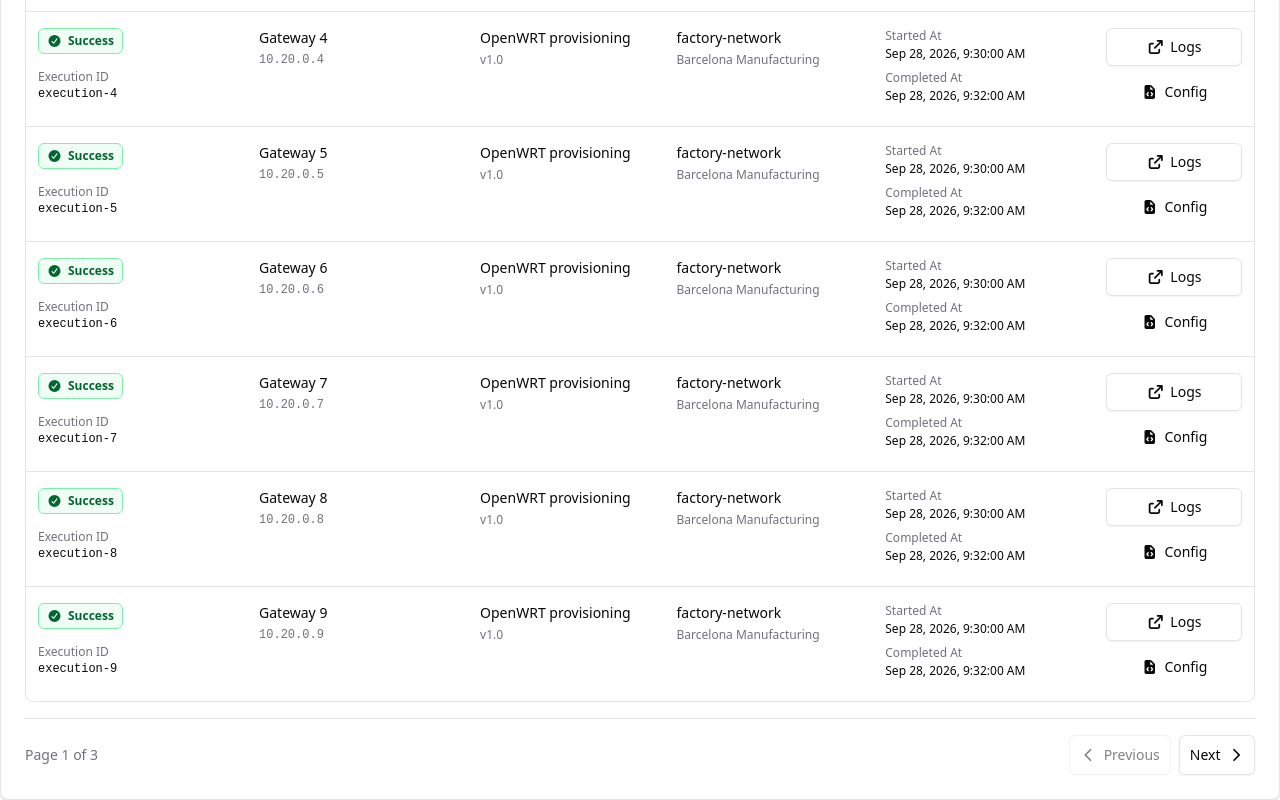
Test: DeploymentJobsList result navigation › returns to the first page when searching and when clearing filters
This screenshot has width=1280, height=800.
(page scrolled)
Click the button "Next" at [1217, 754], box [1179,734,1255,774]
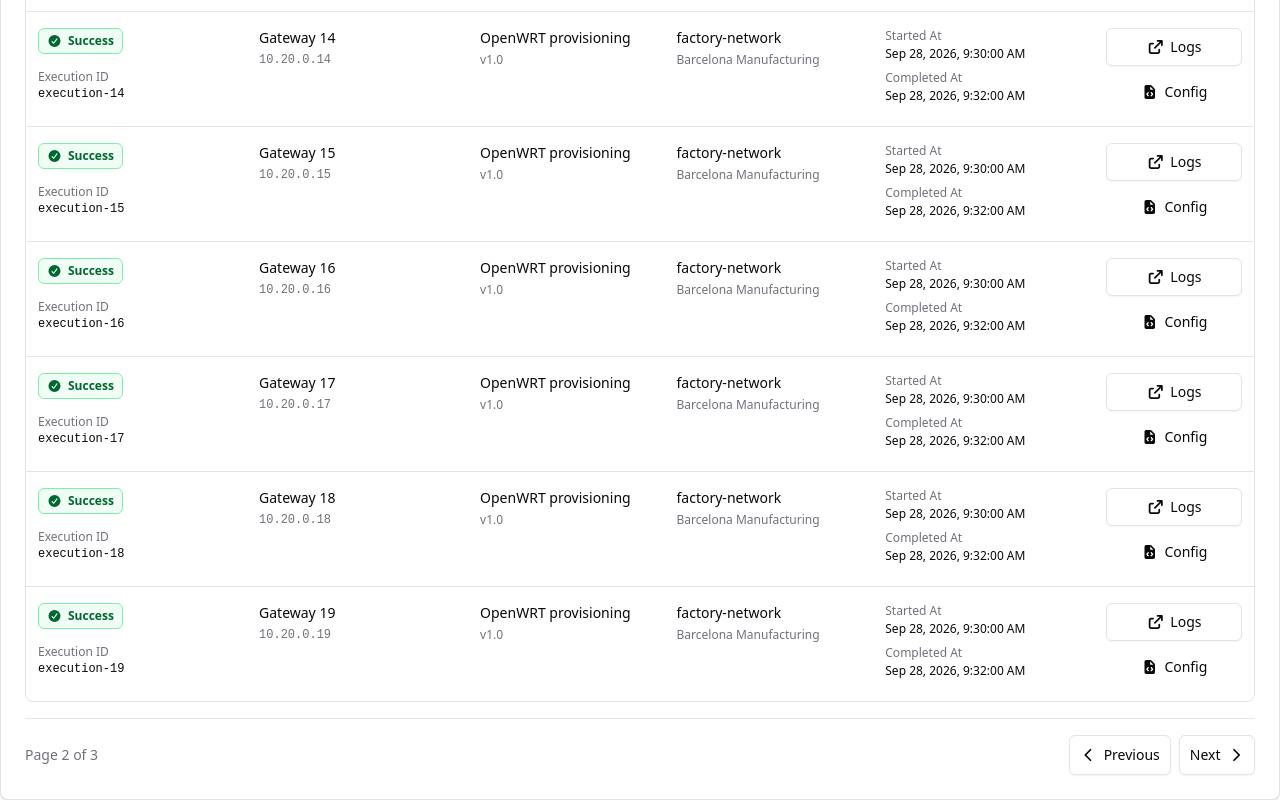
Click the button "Next" at [1217, 754], box [1179,734,1255,774]
(page scrolled)
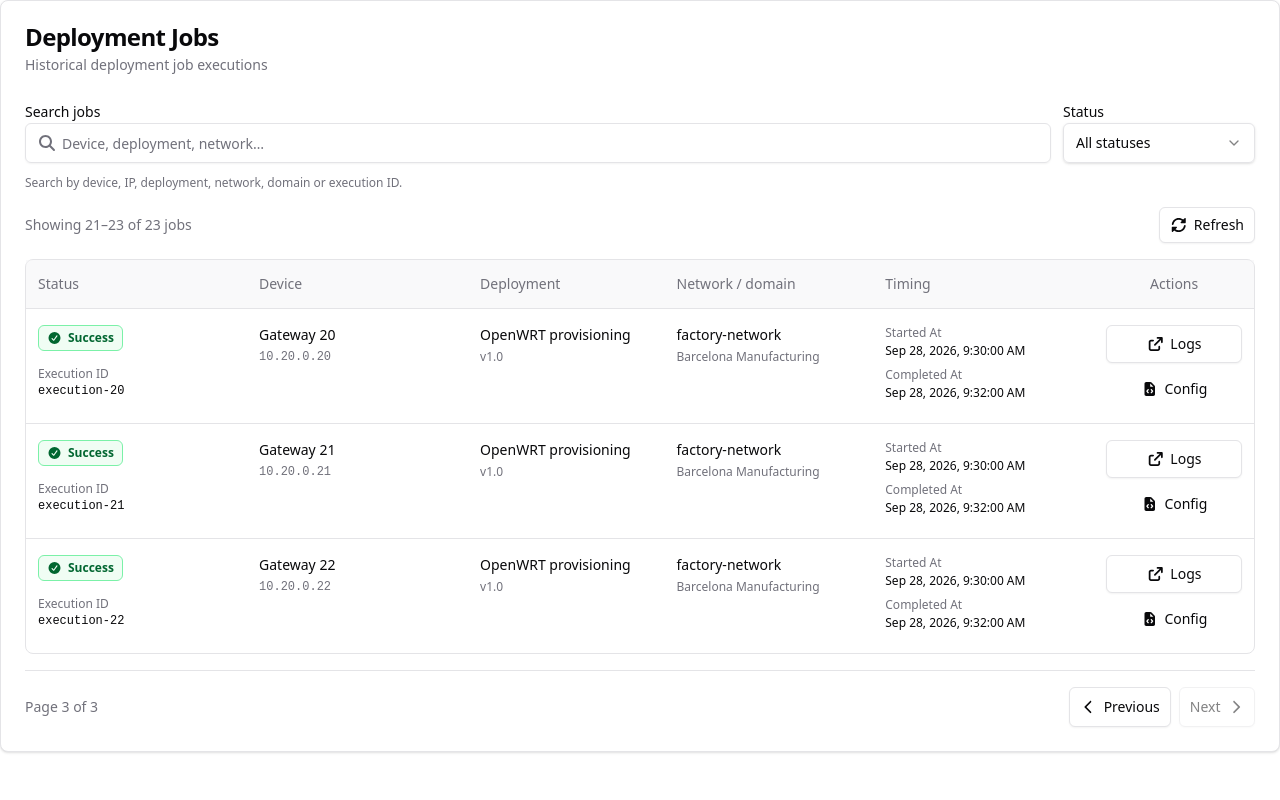
Now the text "Page 3 of 3" is shown, box [25,696,98,716]
Type "BARCELONA execution-0" into the search field labelled "Search jobs" at [538, 143], box [25,123,1051,163]
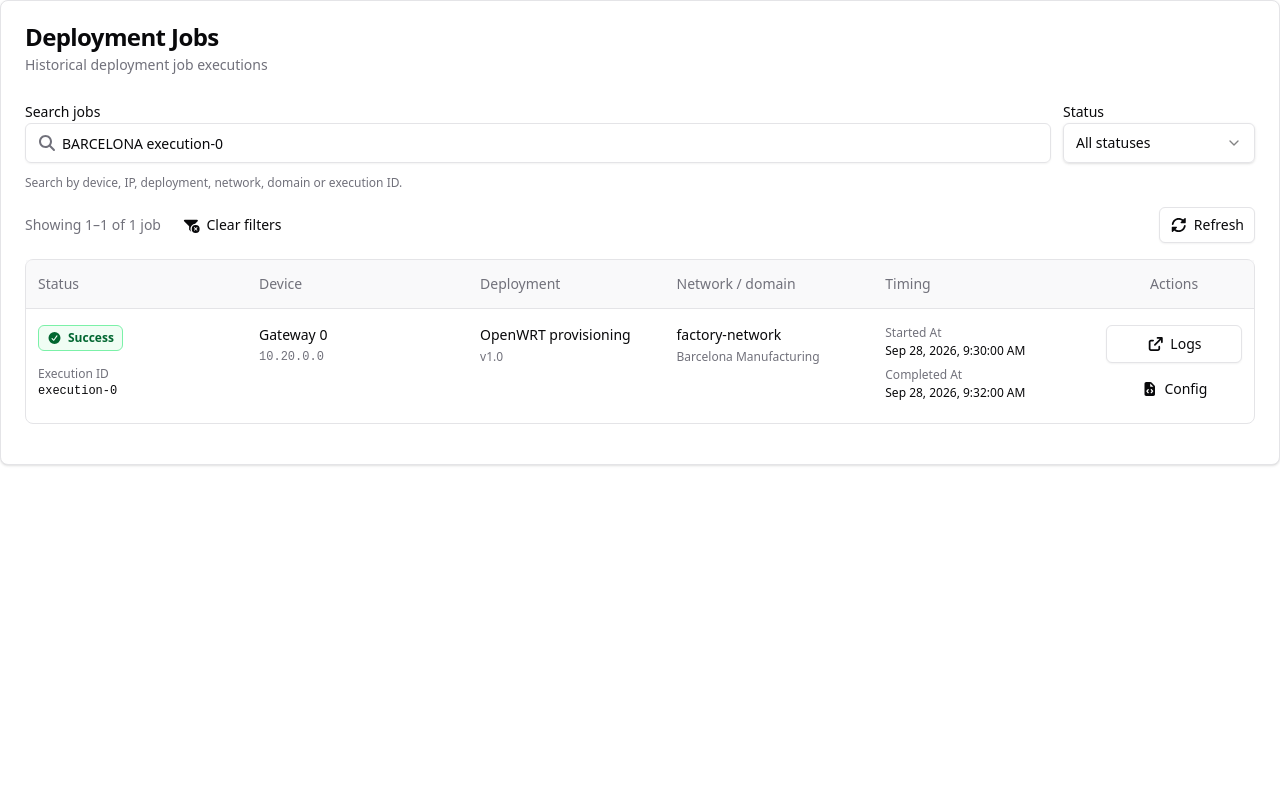
Now the text "Showing 1–1 of 1 job" is shown, box [25,215,161,235]
Now the text "Gateway 0" is shown, box [259,324,327,344]
Click the button "Clear filters" at [232, 225], box [173,207,292,243]
(page scrolled)
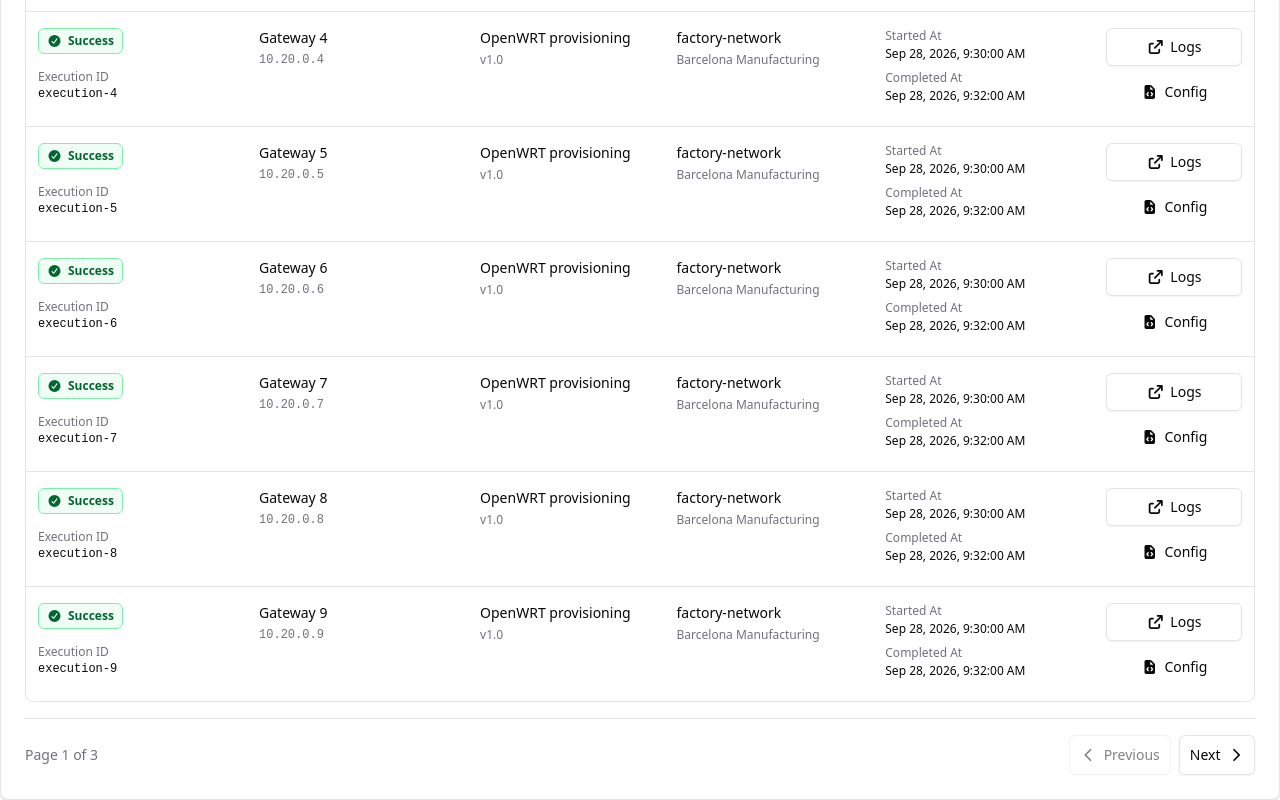
Now the text "Page 1 of 3" is shown, box [25,744,98,764]
